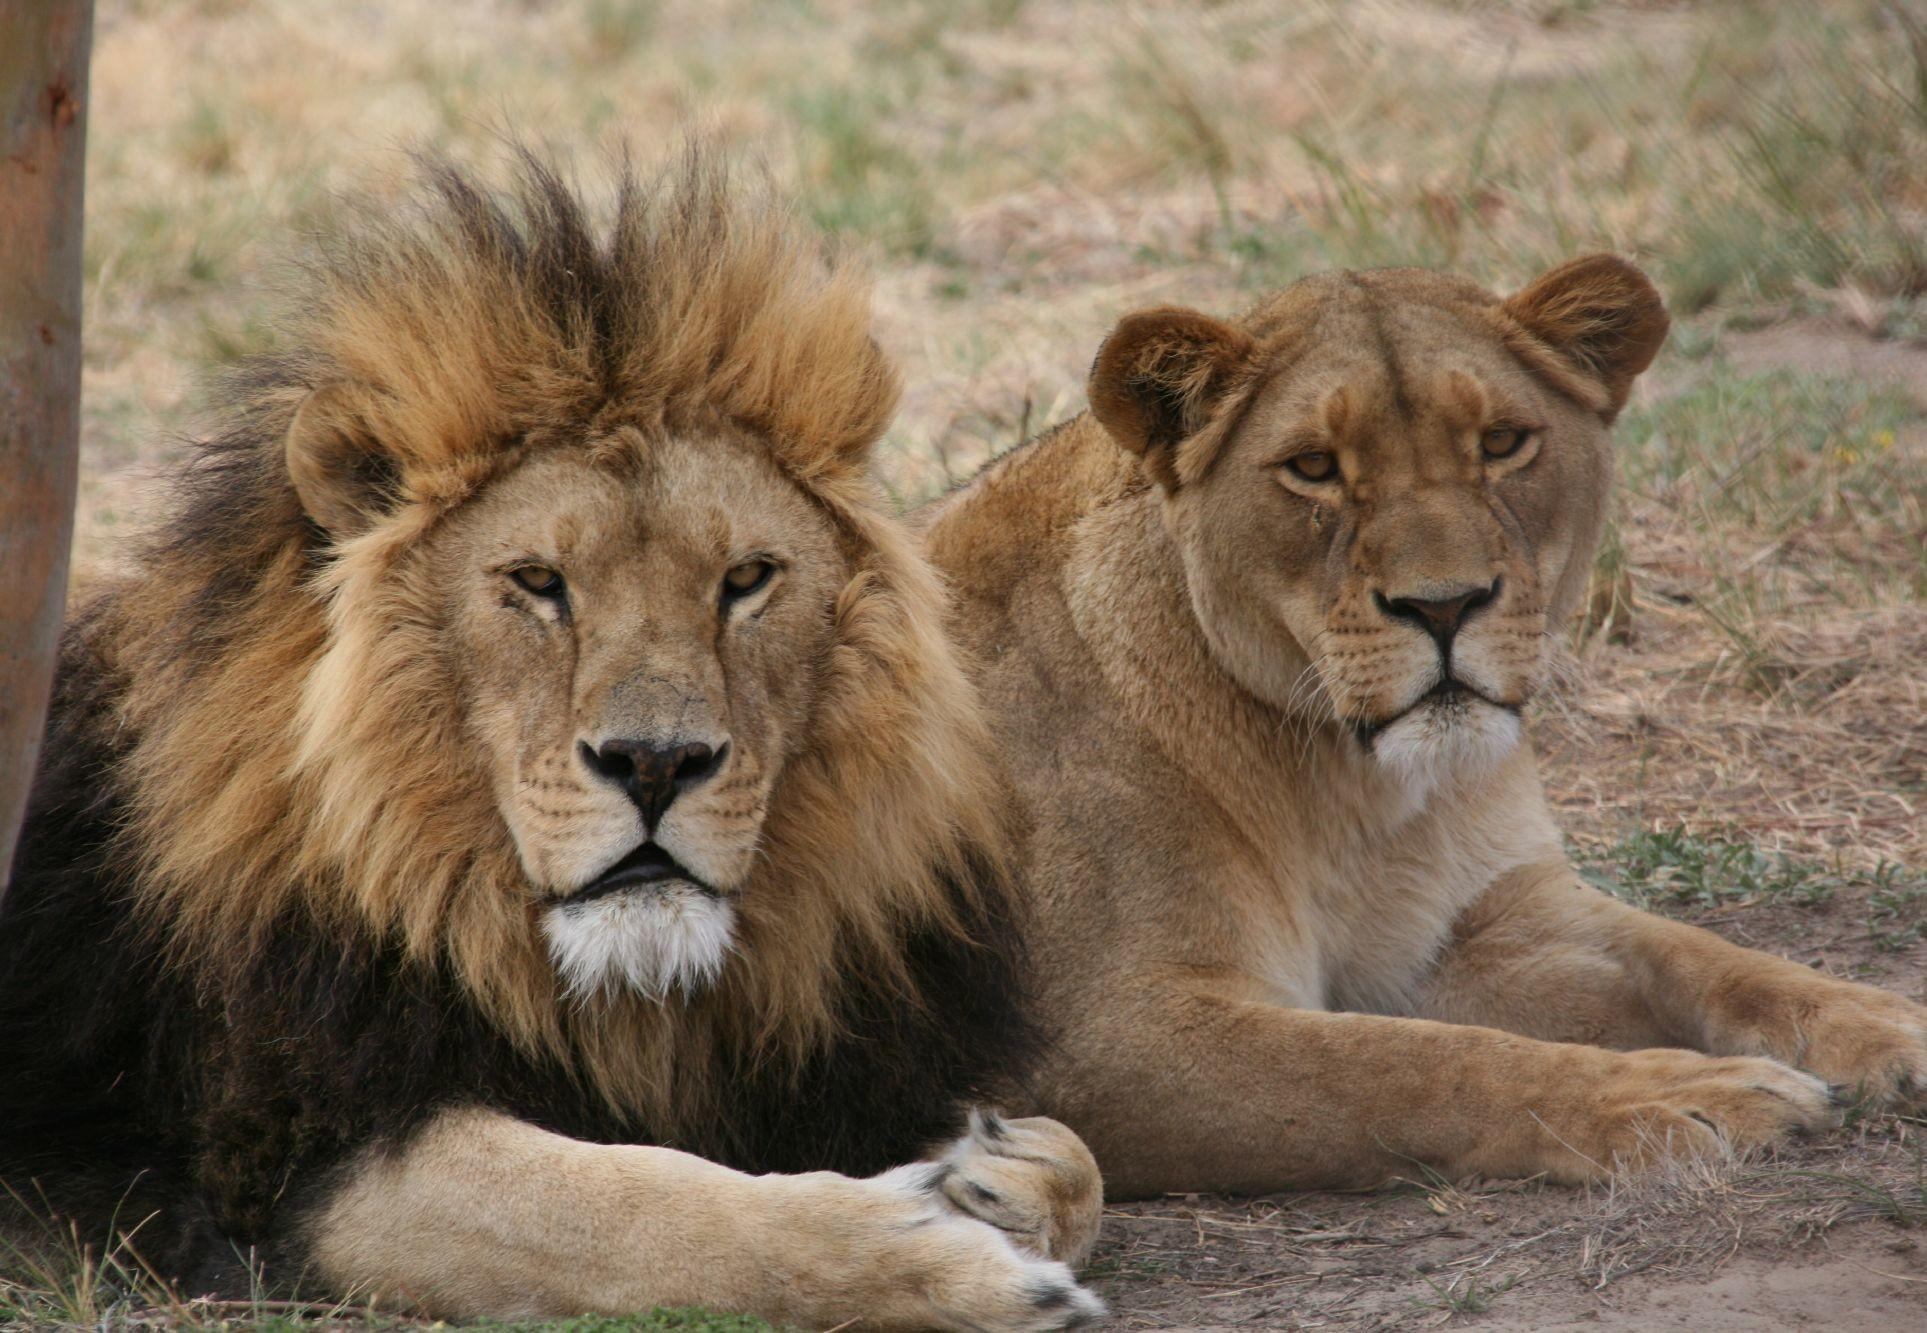lion: (141, 151, 1043, 1236), (1059, 248, 1808, 1087)
